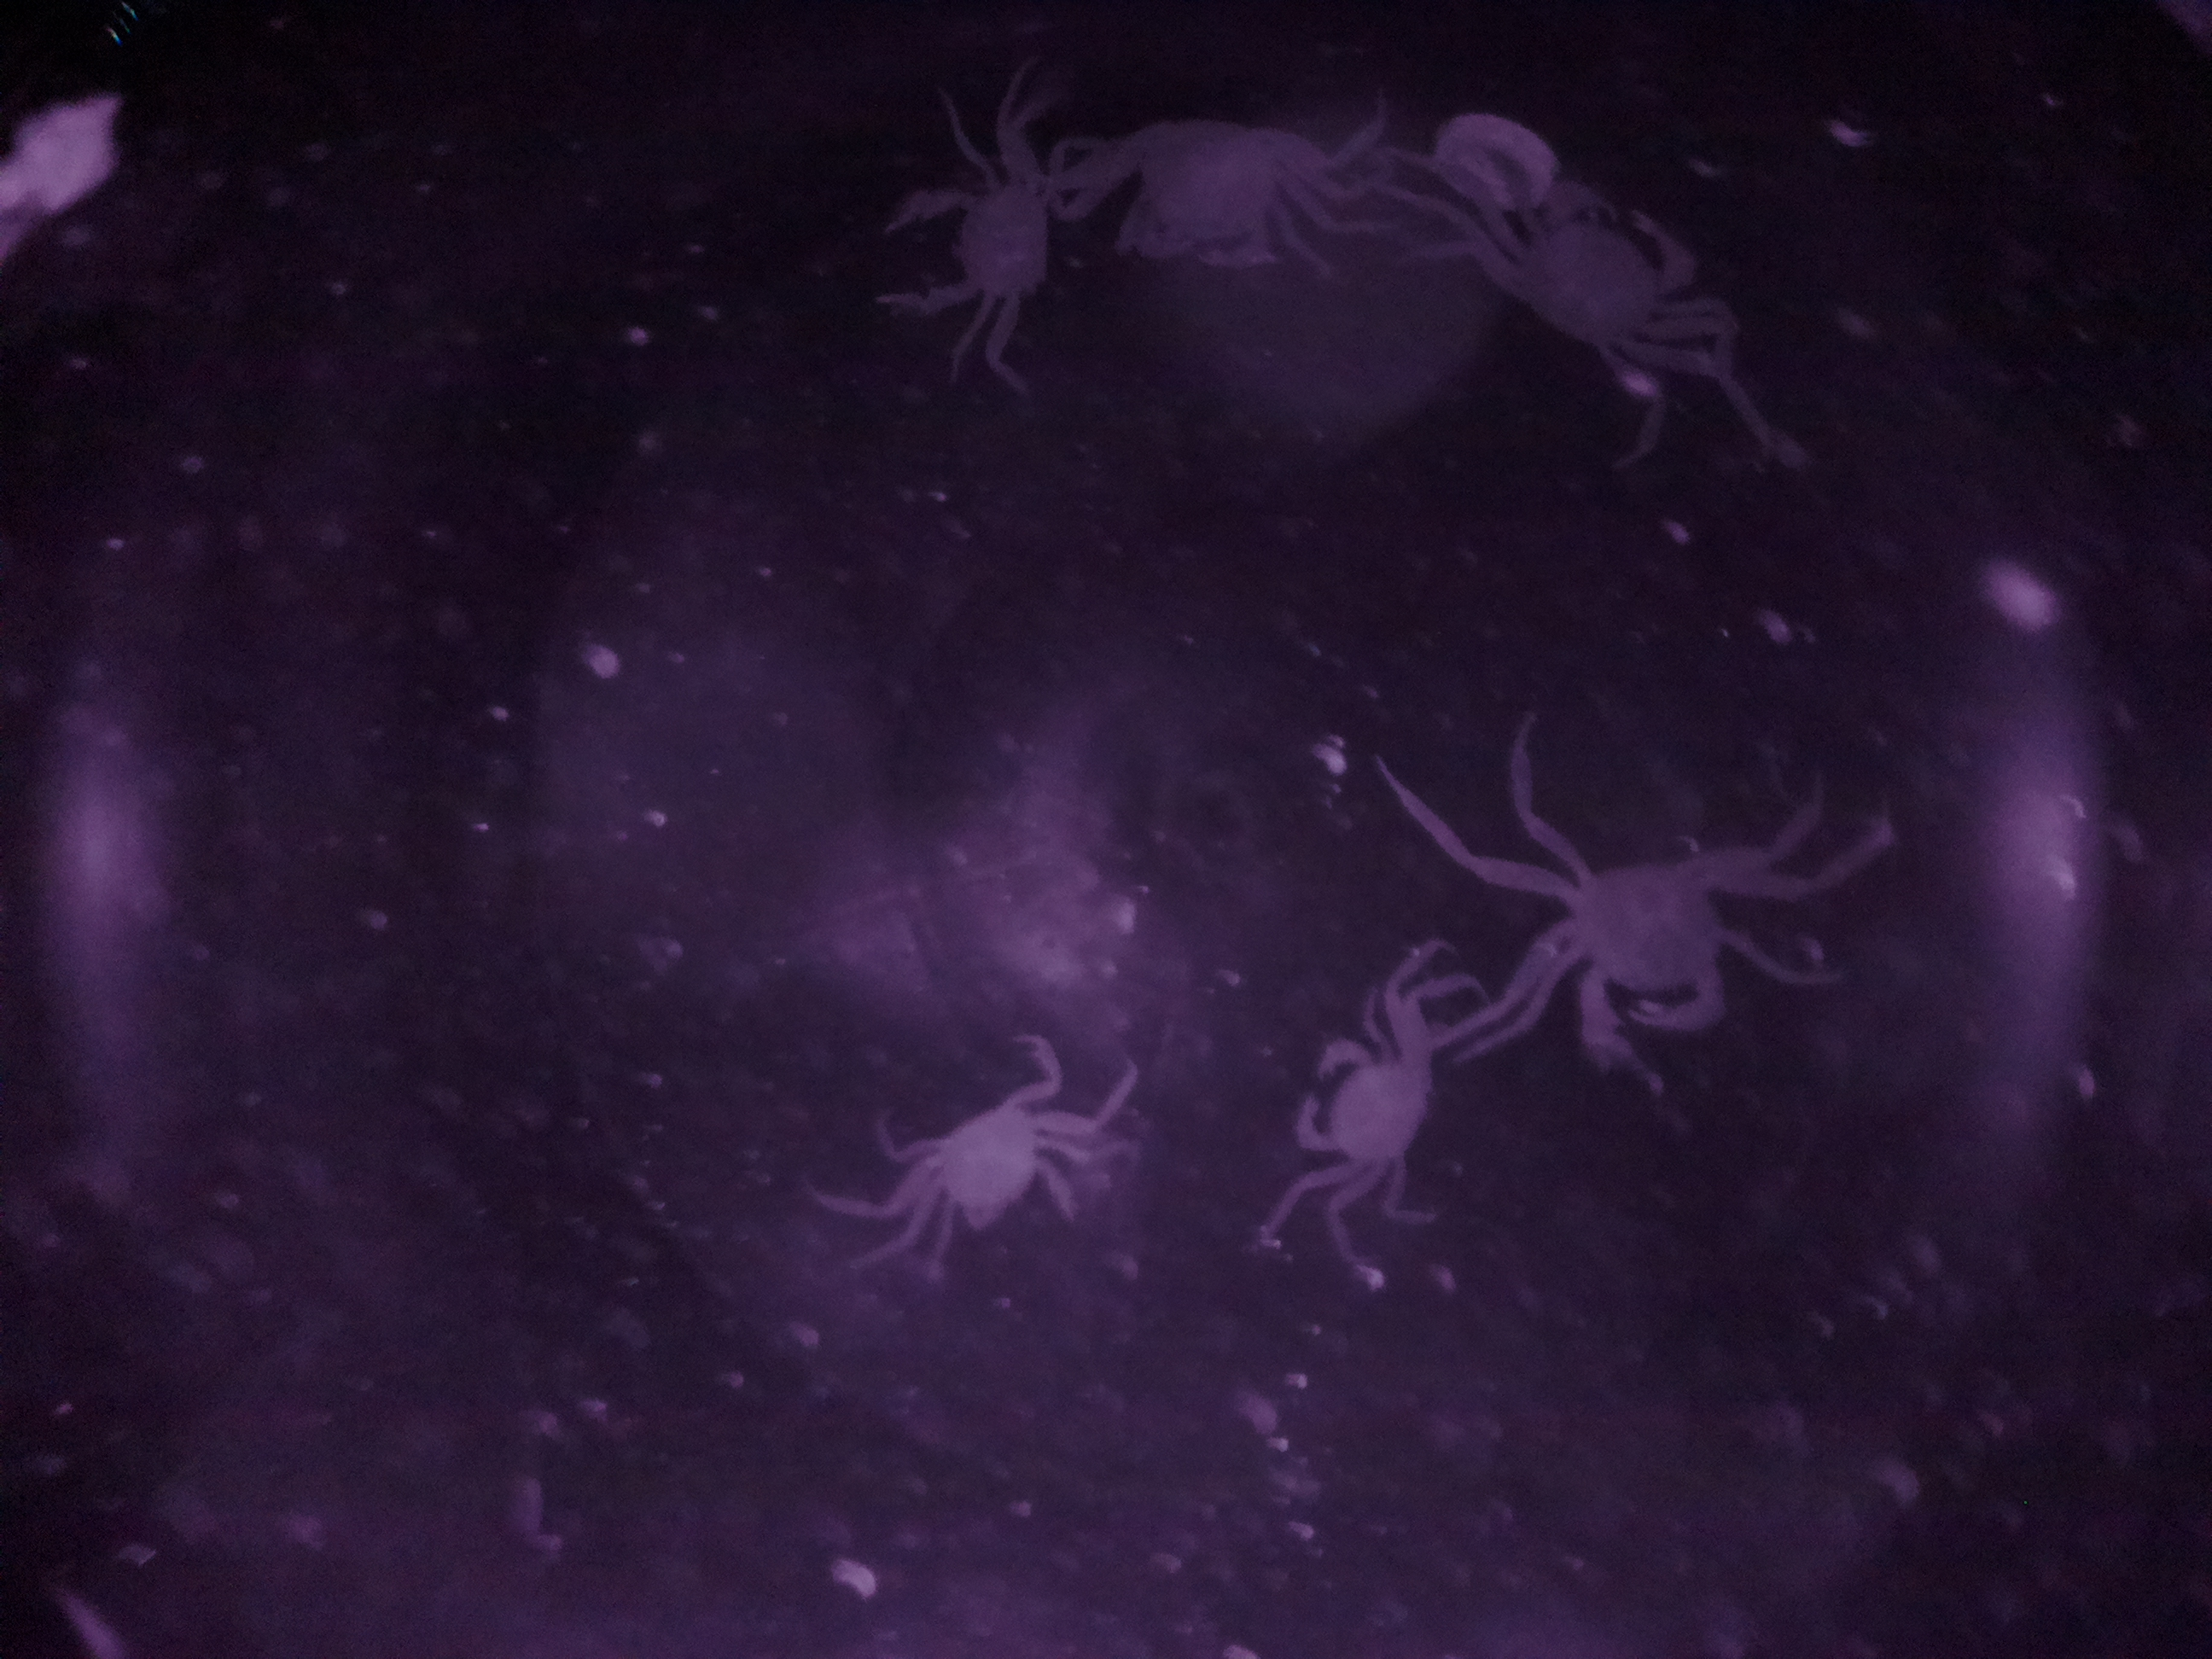Crab: (1493, 823, 1799, 1093), (1439, 166, 1745, 369), (878, 1072, 1106, 1288), (876, 134, 1085, 364), (1287, 993, 1467, 1206)
